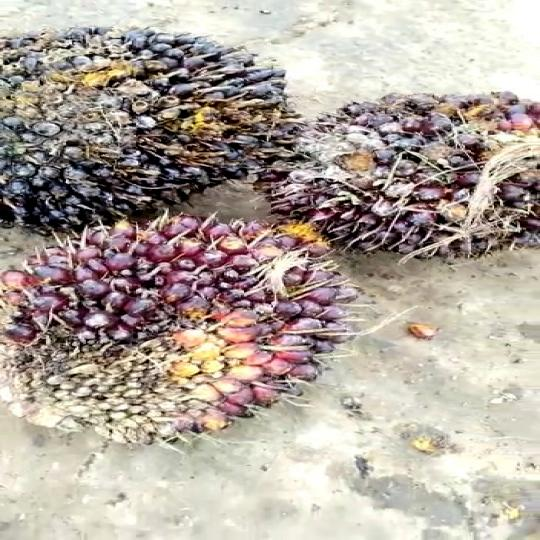kurang masak: (0, 200, 365, 461), (0, 26, 297, 213), (260, 85, 540, 270)
